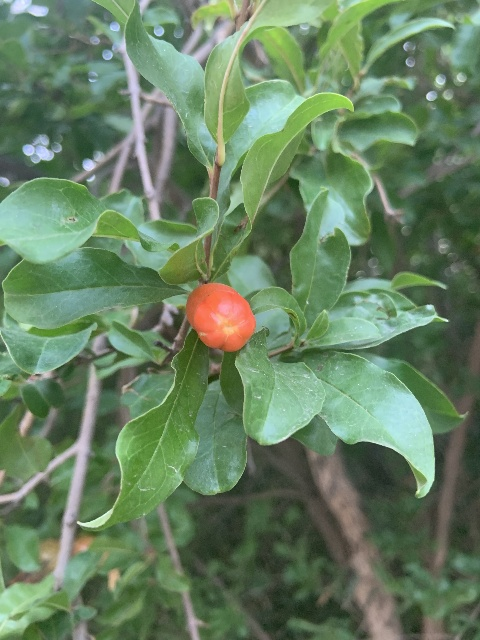bud: (187, 283, 256, 353)
